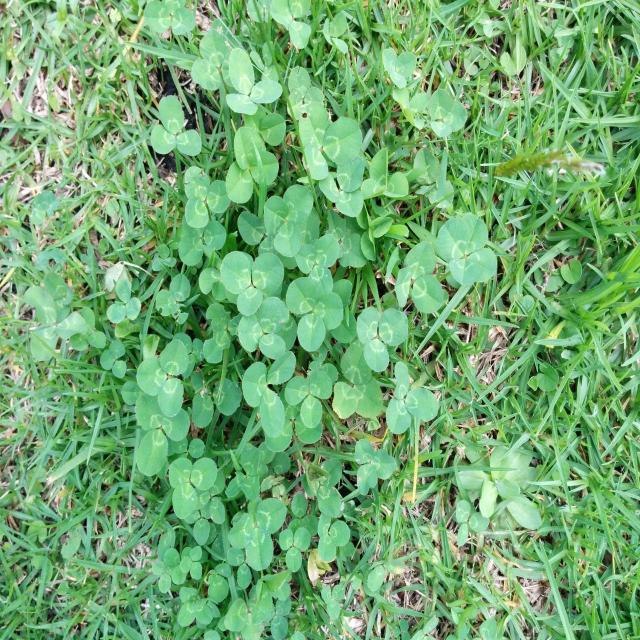Four Leaf Clover: (437, 214, 497, 285)
